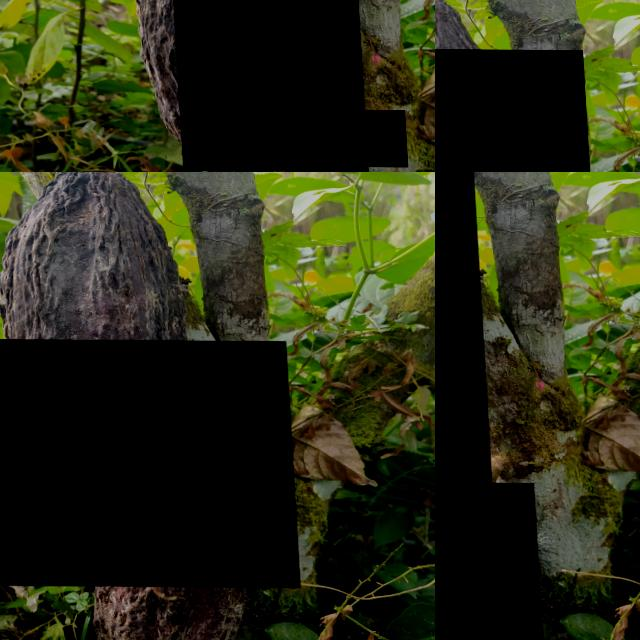Fitoftora: (166, 0, 363, 171), (435, 48, 598, 172), (435, 172, 489, 531), (435, 481, 538, 640), (357, 109, 403, 167)
Monilia: (0, 338, 294, 586)
